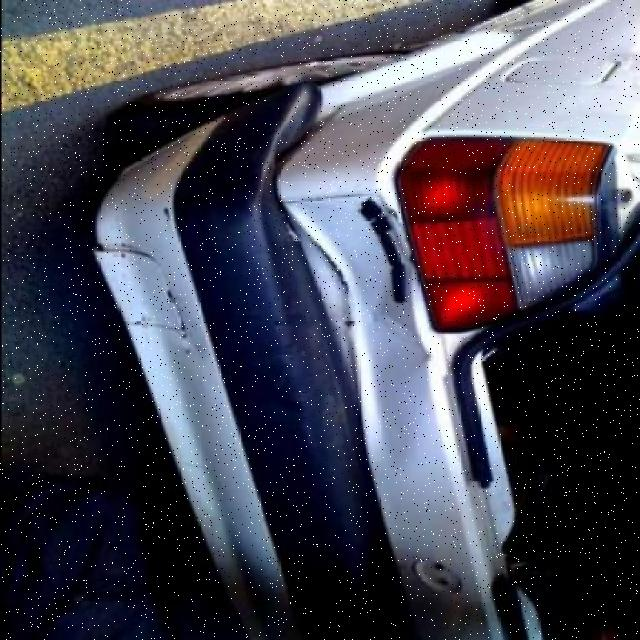damage: (282, 189, 431, 448), (95, 237, 188, 341)
